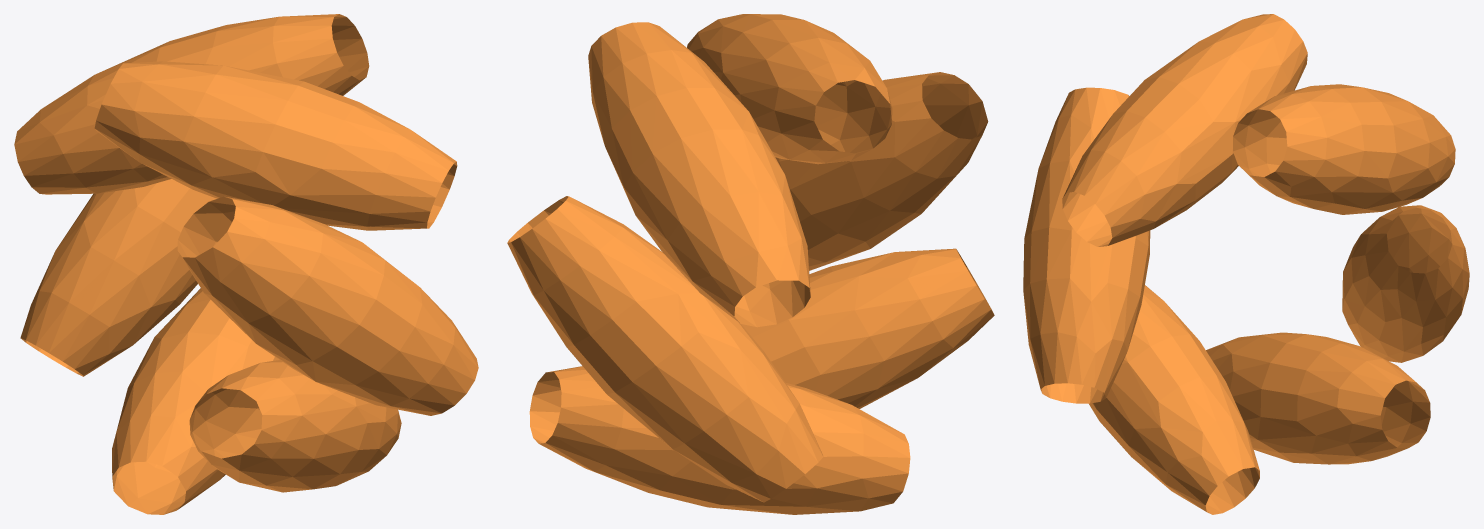
The model's file is omni_swedishWheel_rr_vis_2.dae.
3 renders of one model, left to right at view 1: azimuth 30°, elevation 25°; view 2: azimuth 150°, elevation 25°; view 3: azimuth 270°, elevation 25°, orthographic. The views are drawn at different scales.
Visible parts, largest first — view 1: Node_0x7090cbde2390; view 2: Node_0x7090cbde2390; view 3: Node_0x7090cbde2390.
Boxes of the visible parts, <box> form: Node_0x7090cbde2390: <box>14,14,478,514</box>; Node_0x7090cbde2390: <box>507,14,994,514</box>; Node_0x7090cbde2390: <box>1023,14,1469,514</box>.
Size of the model in its own units: 0.0678 by 0.1 by 0.0999.
